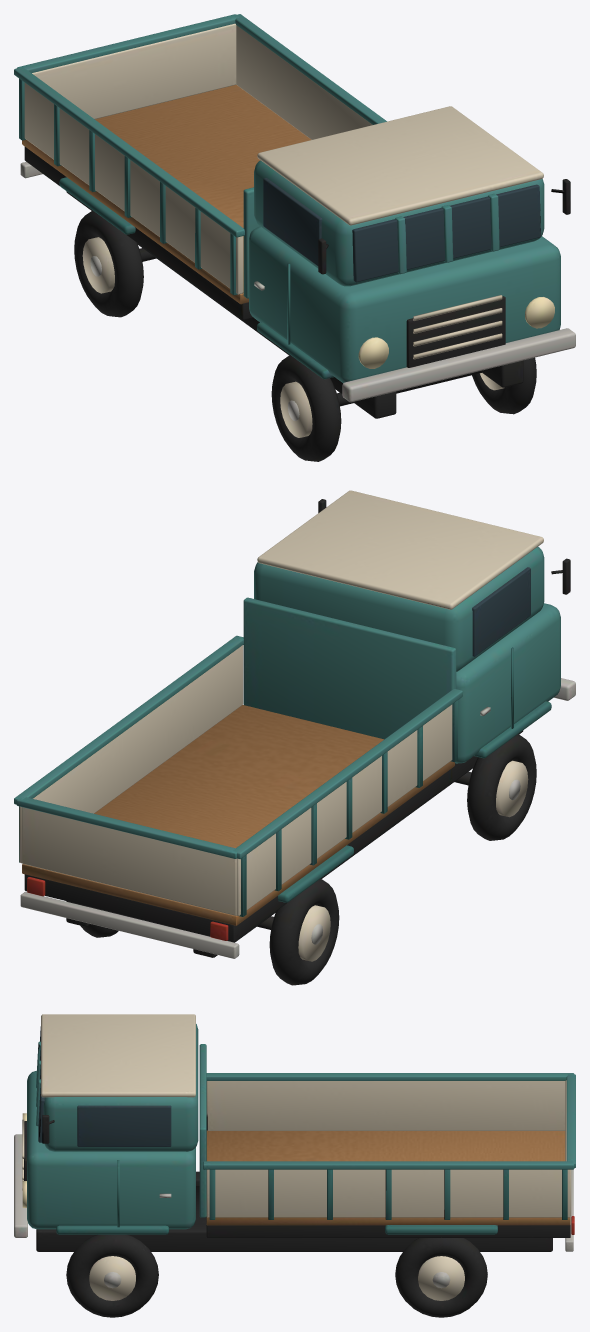
File: tm-truck.glb
3 renders of one model, top to bottom at view 1: azimuth 30°, elevation 25°; view 2: azimuth 150°, elevation 25°; view 3: azimuth 270°, elevation 25°, orthographic. The views are drawn at different scales.
Visible parts, largest first — view 1: tm-truck; view 2: tm-truck; view 3: tm-truck.
Boxes of the visible parts, <box> form: tm-truck: <box>14,14,575,461</box>; tm-truck: <box>14,490,575,985</box>; tm-truck: <box>14,1014,575,1317</box>.
Size of the model in its own units: 2.04 by 2.1 by 4.78.
1 material, 1 textured.
